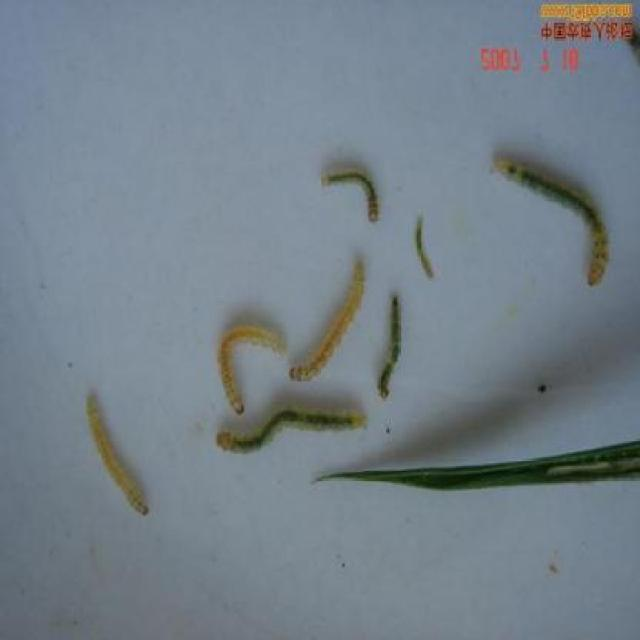leaf-folder: (484, 147, 624, 293), (60, 382, 174, 538), (204, 390, 371, 468), (286, 248, 372, 384), (366, 263, 428, 403), (214, 317, 288, 408), (310, 159, 393, 227), (406, 210, 446, 284)
